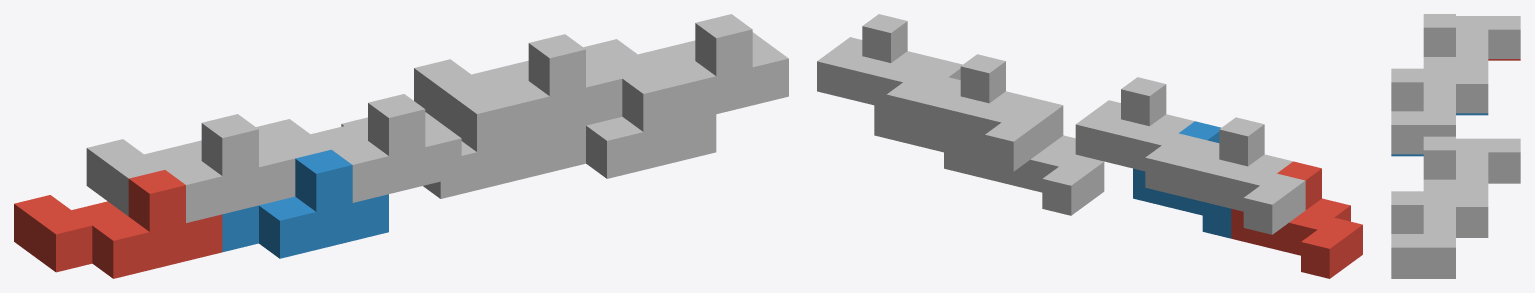
Rendered from tiling.obj.
The picture shows the model from 3 angles, left to right: view 1: azimuth 30°, elevation 25°; view 2: azimuth 150°, elevation 25°; view 3: azimuth 270°, elevation 25°; orthographic projection. The views are drawn at different scales.
Visible parts, largest first — view 1: copy_1_domain_1, copy_1_domain_3, copy_1_domain_7, copy_1_domain_4, copy_1_domain_8, copy_1_domain_6, copy_1_domain_2, copy_1_domain_5; view 2: copy_1_domain_3, copy_1_domain_7, copy_1_domain_4, copy_1_domain_8, copy_1_domain_1, copy_1_domain_5, copy_1_domain_2, copy_1_domain_6; view 3: copy_1_domain_8, copy_1_domain_4, copy_1_domain_7, copy_1_domain_3, copy_1_domain_2, copy_1_domain_6, copy_1_domain_5.
Boxes of the visible parts, x1,y1,x2,y2 form: copy_1_domain_1: (14, 170, 222, 278); copy_1_domain_3: (86, 114, 295, 222); copy_1_domain_7: (414, 34, 622, 143); copy_1_domain_4: (256, 94, 461, 202); copy_1_domain_8: (583, 14, 788, 122); copy_1_domain_6: (549, 70, 716, 178); copy_1_domain_2: (222, 149, 388, 258); copy_1_domain_5: (341, 90, 549, 198); copy_1_domain_3: (1174, 117, 1305, 234); copy_1_domain_7: (915, 54, 1046, 171); copy_1_domain_4: (1075, 77, 1206, 194); copy_1_domain_8: (817, 14, 948, 131); copy_1_domain_1: (1231, 161, 1362, 278); copy_1_domain_5: (973, 98, 1104, 215); copy_1_domain_2: (1133, 121, 1231, 238); copy_1_domain_6: (874, 58, 972, 175); copy_1_domain_8: (1391, 191, 1488, 276); copy_1_domain_4: (1391, 68, 1488, 154); copy_1_domain_7: (1423, 136, 1520, 193); copy_1_domain_3: (1423, 14, 1520, 70); copy_1_domain_2: (1391, 113, 1488, 156); copy_1_domain_6: (1391, 236, 1488, 278); copy_1_domain_5: (1488, 181, 1520, 183).
Size of the model in its own units: 19 by 3 by 4.
